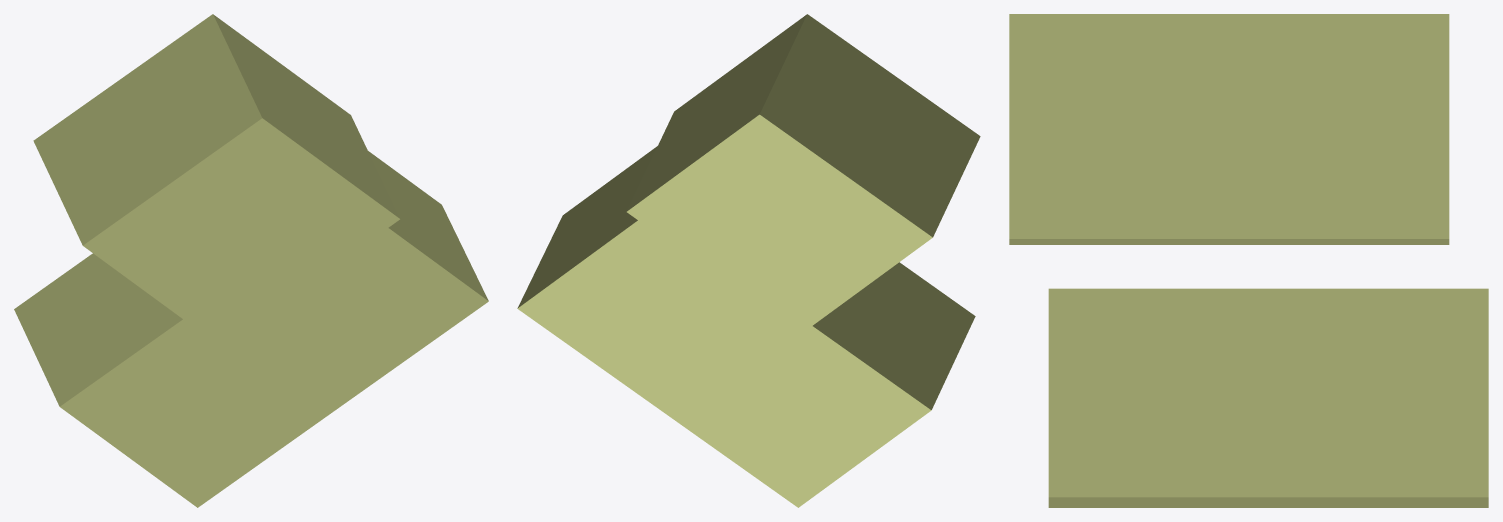
3 renders of one model, left to right at view 1: azimuth 30°, elevation 25°; view 2: azimuth 150°, elevation 25°; view 3: azimuth 270°, elevation 25°, orthographic. The views are drawn at different scales.
Parts seen in each view (by area): view 1: 0_1_0_0_0_1_2_1_3_2_2; view 2: 0_1_0_0_0_1_2_1_3_2_2; view 3: 0_1_0_0_0_1_2_1_3_2_2.
Boxes of the visible parts, <box> form: 0_1_0_0_0_1_2_1_3_2_2: <box>14,14,488,507</box>; 0_1_0_0_0_1_2_1_3_2_2: <box>517,14,980,507</box>; 0_1_0_0_0_1_2_1_3_2_2: <box>1009,14,1488,507</box>.
Bounding box in the file's own units: 12.68 × 13.21 × 9.8.
